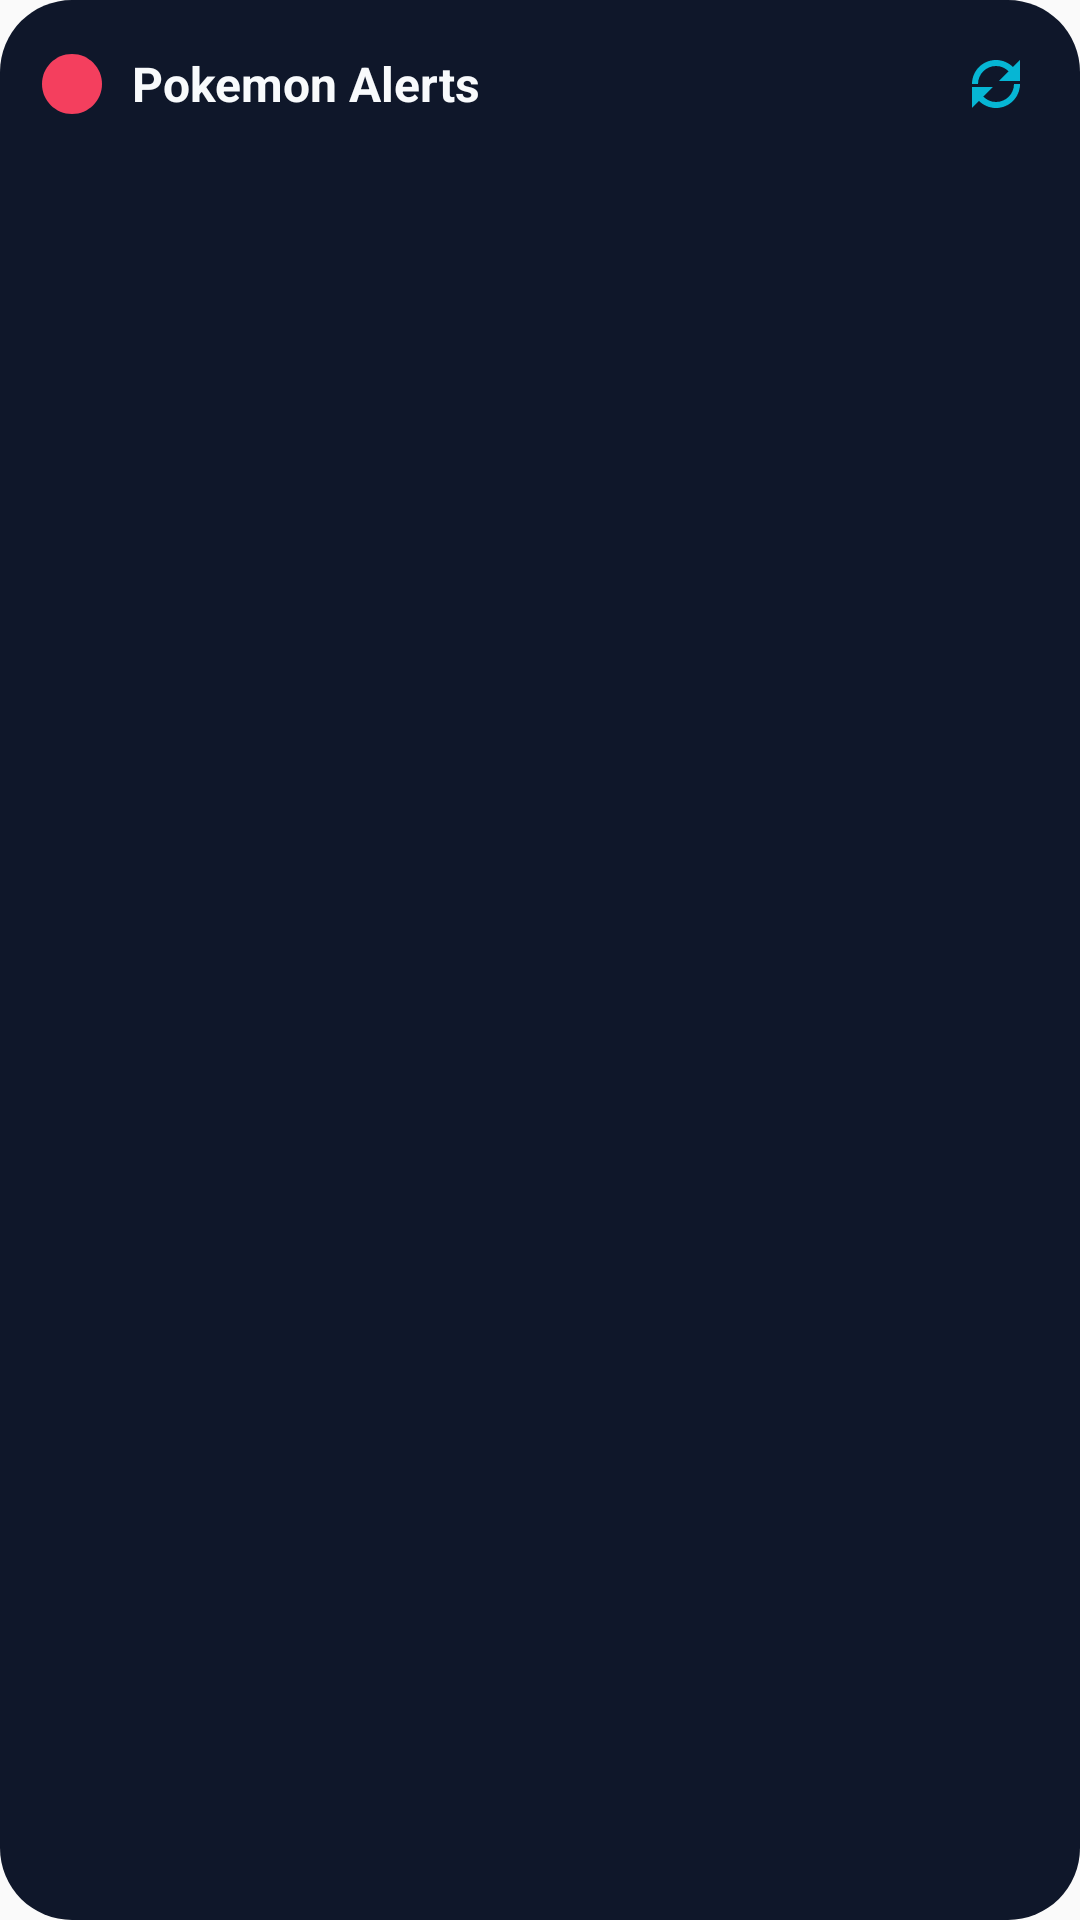

Icon click points for this 1080x1920 phone screenshot, format (x=x, y=y):
Refresh alerts: (x=996, y=84)
